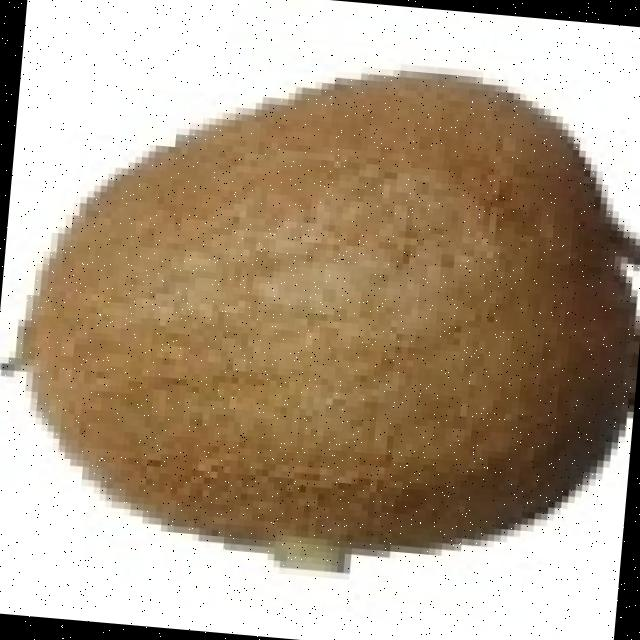kiwi: (26, 64, 624, 551)
